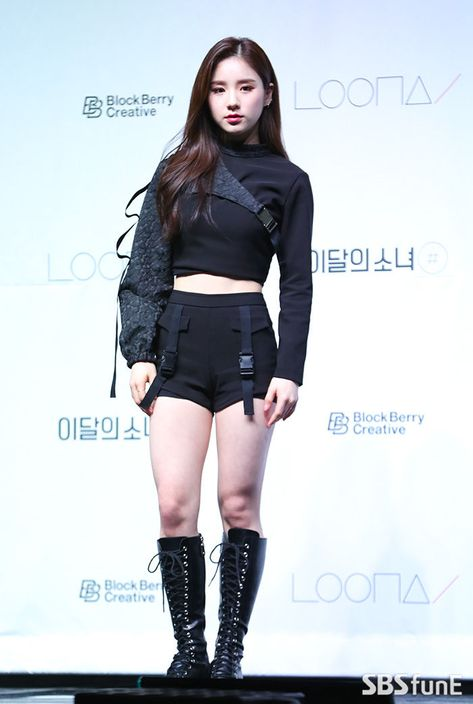person: (97, 29, 331, 684)
